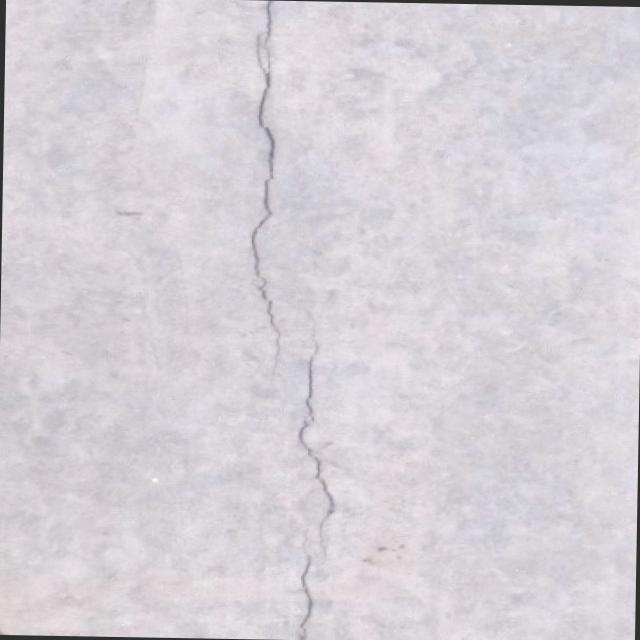crack: (242, 1, 348, 639)
